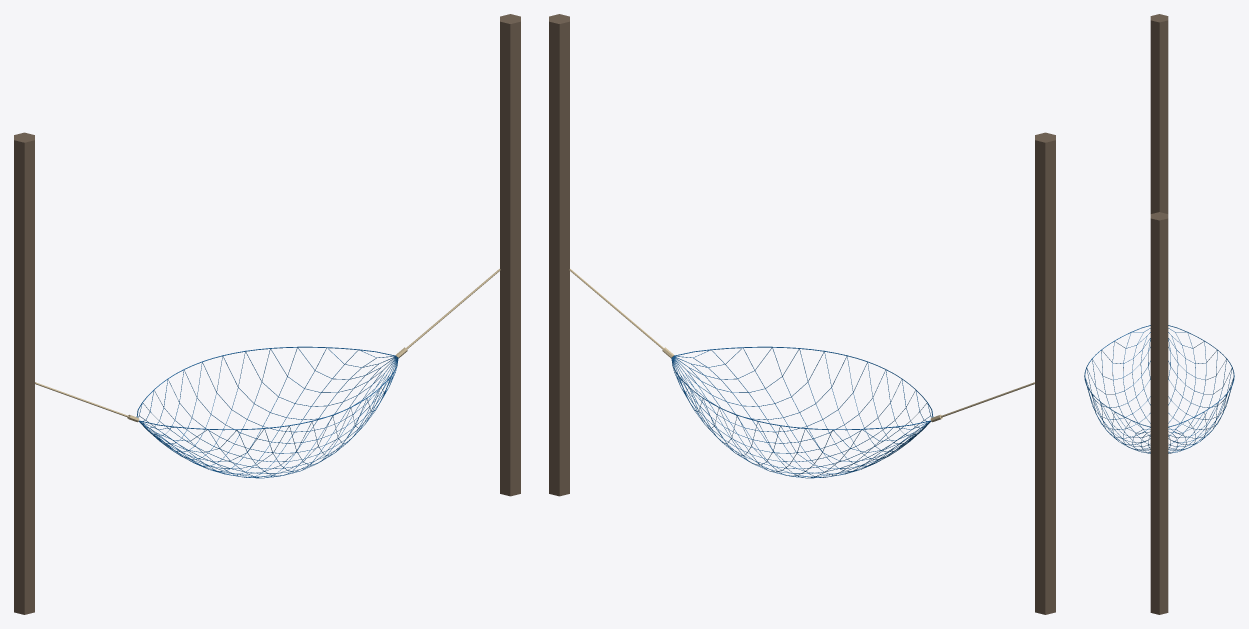
Rendered from vong_luoi_cafe.mid.glb.
The picture shows the model from 3 angles, left to right: view 1: azimuth 30°, elevation 25°; view 2: azimuth 150°, elevation 25°; view 3: azimuth 270°, elevation 25°; orthographic projection. The views are drawn at different scales.
Parts seen in each view (by area): view 1: vong_luoi_cafe, bed_vong_luoi_cafe; view 2: vong_luoi_cafe, bed_vong_luoi_cafe; view 3: vong_luoi_cafe, bed_vong_luoi_cafe.
Part boxes in pixels (x1=…): vong_luoi_cafe: x1=14, y1=14, x2=520, y2=614; bed_vong_luoi_cafe: x1=35, y1=269, x2=500, y2=478; vong_luoi_cafe: x1=549, y1=14, x2=1055, y2=614; bed_vong_luoi_cafe: x1=569, y1=269, x2=1034, y2=478; vong_luoi_cafe: x1=1150, y1=14, x2=1168, y2=614; bed_vong_luoi_cafe: x1=1084, y1=325, x2=1234, y2=453.
Bounding box in the file's own units: 2.92 × 2.6 × 0.8973.
